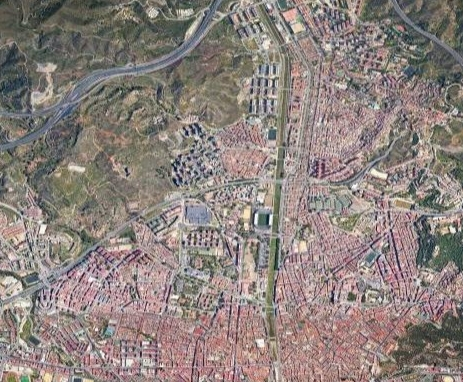bridge: (268, 175, 290, 189)
motorway: (1, 57, 146, 155), (130, 1, 236, 75), (86, 192, 175, 266), (1, 239, 89, 313), (388, 1, 463, 73), (169, 169, 291, 203), (357, 128, 406, 183), (282, 167, 358, 199)
